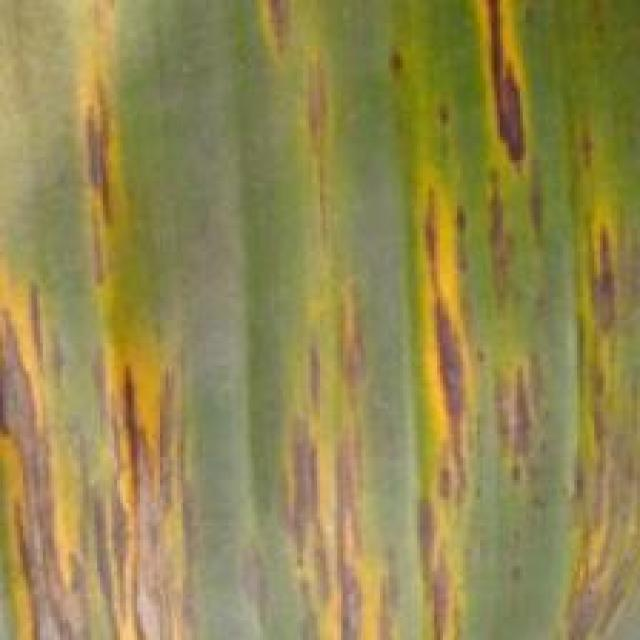Early_leaf_spot: (0, 0, 218, 637), (237, 0, 400, 640), (386, 0, 514, 640), (535, 65, 640, 640), (481, 269, 555, 501), (457, 0, 546, 172)
